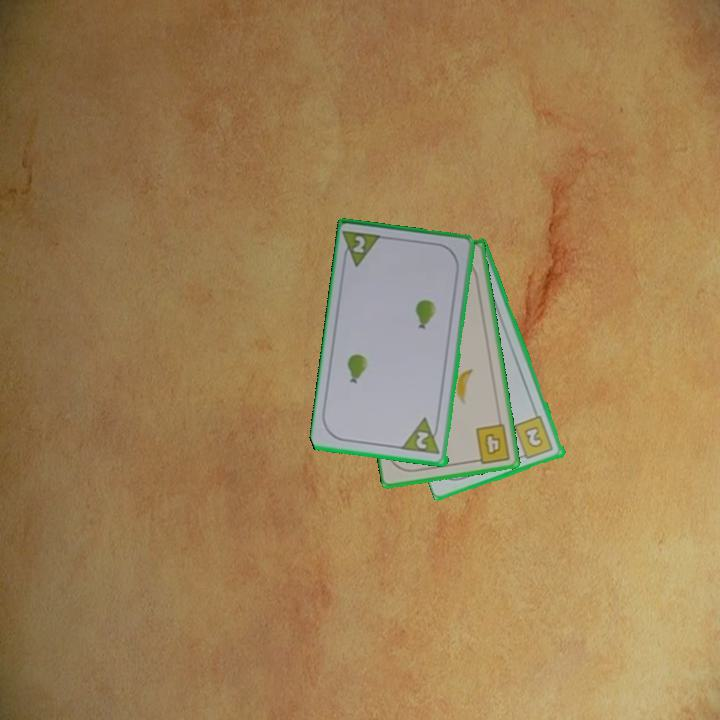2b: (511, 413, 556, 462)
2p: (340, 227, 386, 270), (400, 415, 443, 458)
4b: (470, 420, 514, 466)
